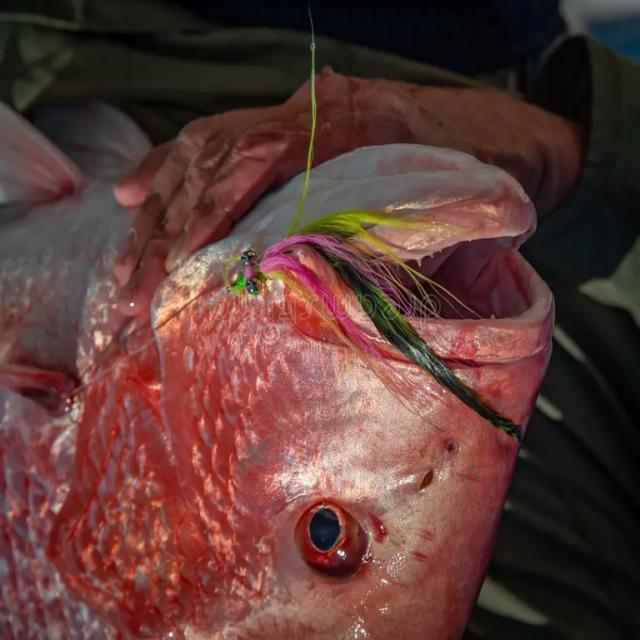Red Snapper: (1, 89, 554, 640)
